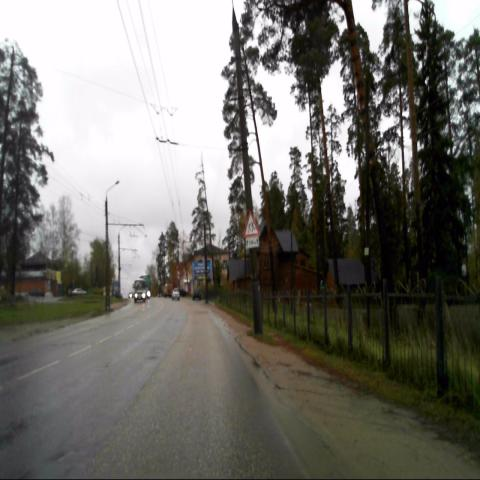1_23: (243, 211, 259, 236)
